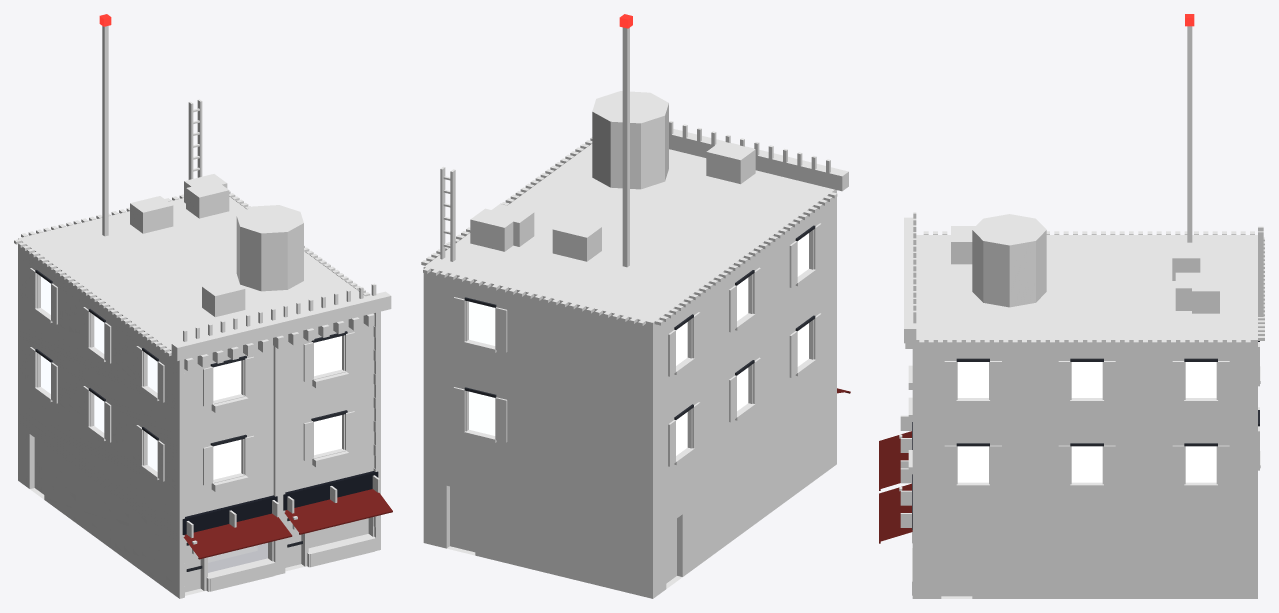
Rendered from bld_market_01_a.glb.
3 views of the same model, side by side, from view 1: azimuth 30°, elevation 25°; view 2: azimuth 150°, elevation 25°; view 3: azimuth 270°, elevation 25° (orthographic). The views are drawn at different scales.
Parts seen in each view (by area): view 1: LOD0; view 2: LOD0; view 3: LOD0.
Part boxes in pixels (x1=…): LOD0: x1=14, y1=14, x2=392, y2=598; LOD0: x1=421, y1=14, x2=850, y2=598; LOD0: x1=879, y1=14, x2=1264, y2=598.
Size of what is drawn, in the model's own units: 8.5 by 18 by 12.42.
